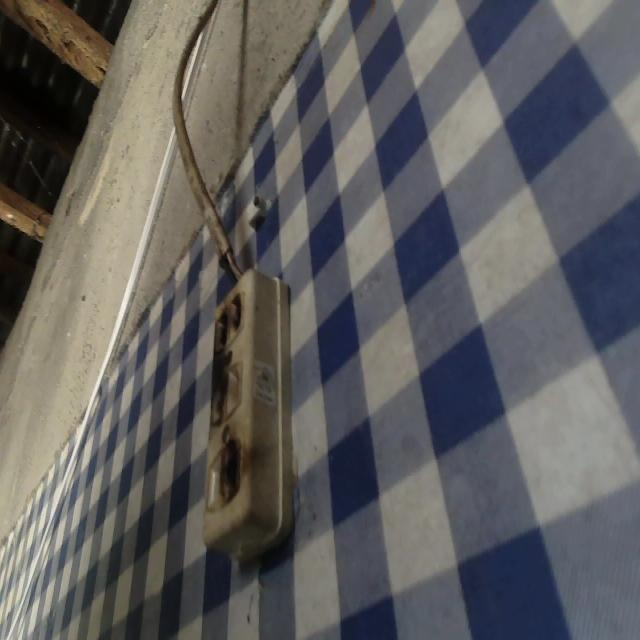-: (210, 289, 243, 352), (219, 439, 242, 504), (207, 365, 229, 427)
